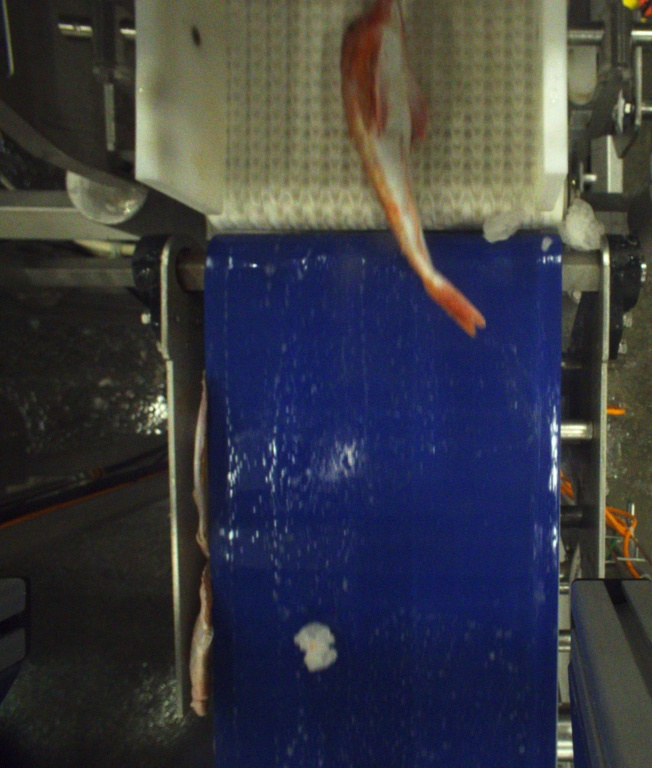GUU: (335, 0, 489, 337)
